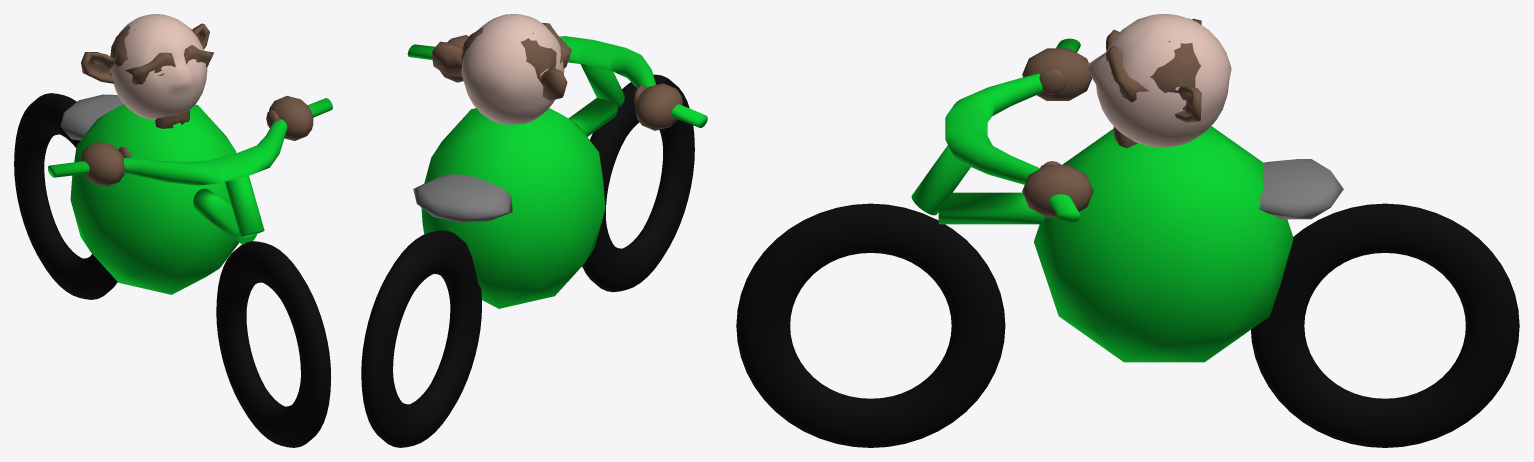
The model's file is greenBike.fbx.
3 renders of one model, left to right at view 1: azimuth 30°, elevation 25°; view 2: azimuth 150°, elevation 25°; view 3: azimuth 270°, elevation 25°, orthographic. The views are drawn at different scales.
Parts seen in each view (by area): view 1: Icosphere.004, Torus.001, Torus.000, Sphere, Cylinder, Suzanne, Icosphere.005, Cylinder.002, Icosphere.003, Cylinder.001, Icosphere; view 2: Icosphere.004, Torus.000, Torus.001, Sphere, Icosphere.005, Cylinder, Suzanne, Icosphere.003, Cylinder.001, Cylinder.002; view 3: Icosphere.004, Torus.001, Torus.000, Sphere, Cylinder, Icosphere.005, Suzanne, Cylinder.001, Icosphere, Icosphere.003, Cylinder.002.
Part boxes in pixels (x1,y1,x2,y2): Icosphere.004: (70, 104, 238, 294); Torus.001: (216, 241, 330, 447); Torus.000: (14, 93, 117, 299); Sphere: (110, 14, 207, 120); Cylinder: (48, 98, 332, 185); Suzanne: (81, 23, 214, 128); Icosphere.005: (60, 94, 123, 140); Cylinder.002: (225, 176, 264, 237); Icosphere.003: (80, 141, 125, 186); Cylinder.001: (193, 188, 256, 244); Icosphere: (269, 96, 313, 140); Icosphere.004: (421, 108, 605, 308); Torus.000: (361, 230, 481, 447); Torus.001: (582, 74, 694, 292); Sphere: (461, 14, 564, 124); Icosphere.005: (413, 174, 512, 222); Cylinder: (407, 36, 707, 127); Suzanne: (431, 22, 571, 100); Icosphere.003: (635, 83, 682, 130); Cylinder.001: (568, 98, 617, 136); Cylinder.002: (580, 64, 624, 107); Icosphere.004: (1034, 126, 1293, 362); Torus.001: (736, 203, 1005, 447); Torus.000: (1251, 203, 1519, 447); Sphere: (1086, 14, 1231, 146); Cylinder: (945, 38, 1080, 223); Icosphere.005: (1259, 159, 1343, 219); Suzanne: (1106, 18, 1201, 148); Cylinder.001: (938, 192, 1045, 224); Icosphere: (1022, 165, 1093, 217); Icosphere.003: (1022, 48, 1091, 100); Cylinder.002: (911, 145, 970, 215).
Bounding box in the file's own units: 5.91 × 6.89 × 11.41.
